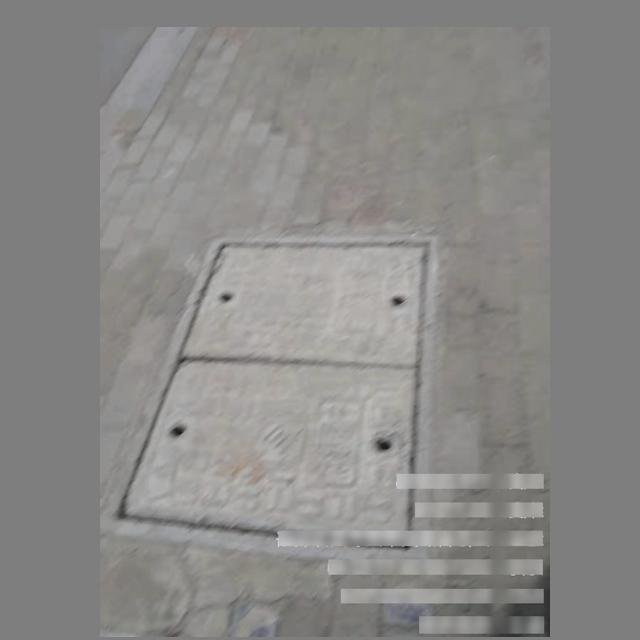good: (101, 232, 438, 565)
